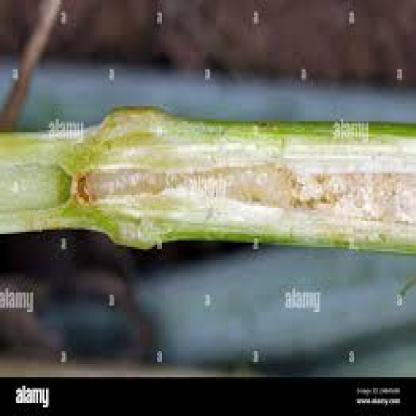sawfly: (70, 150, 286, 214)
